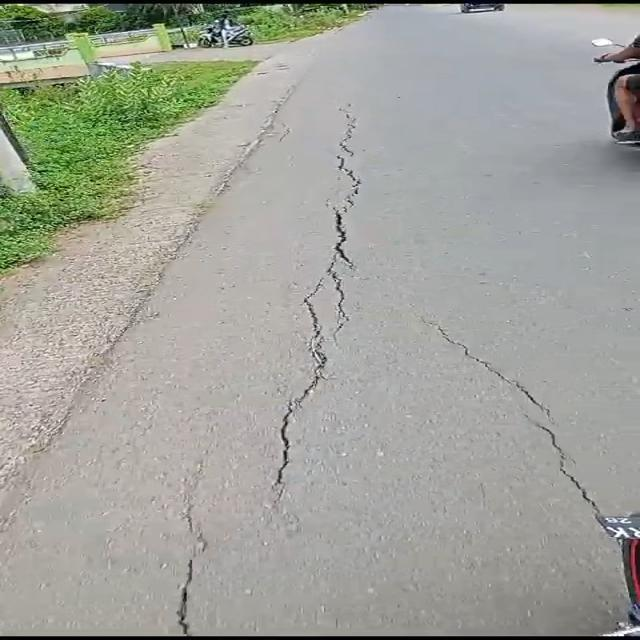Memanjang: (409, 307, 636, 553), (256, 103, 370, 508), (166, 456, 227, 640)
